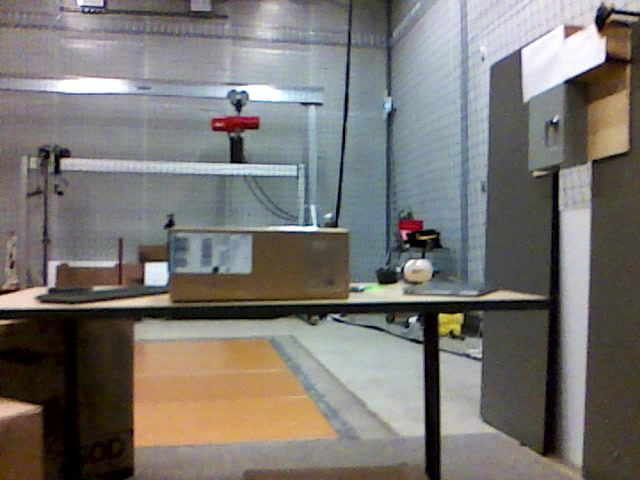box: (1, 321, 133, 478), (168, 228, 352, 300)
